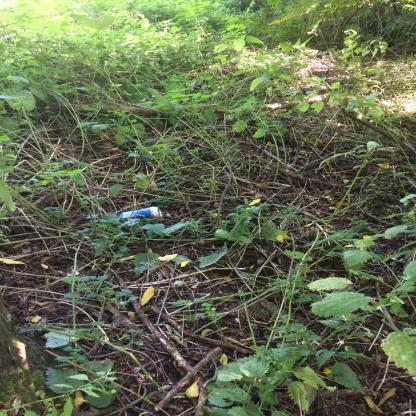metal: (121, 207, 164, 223)
